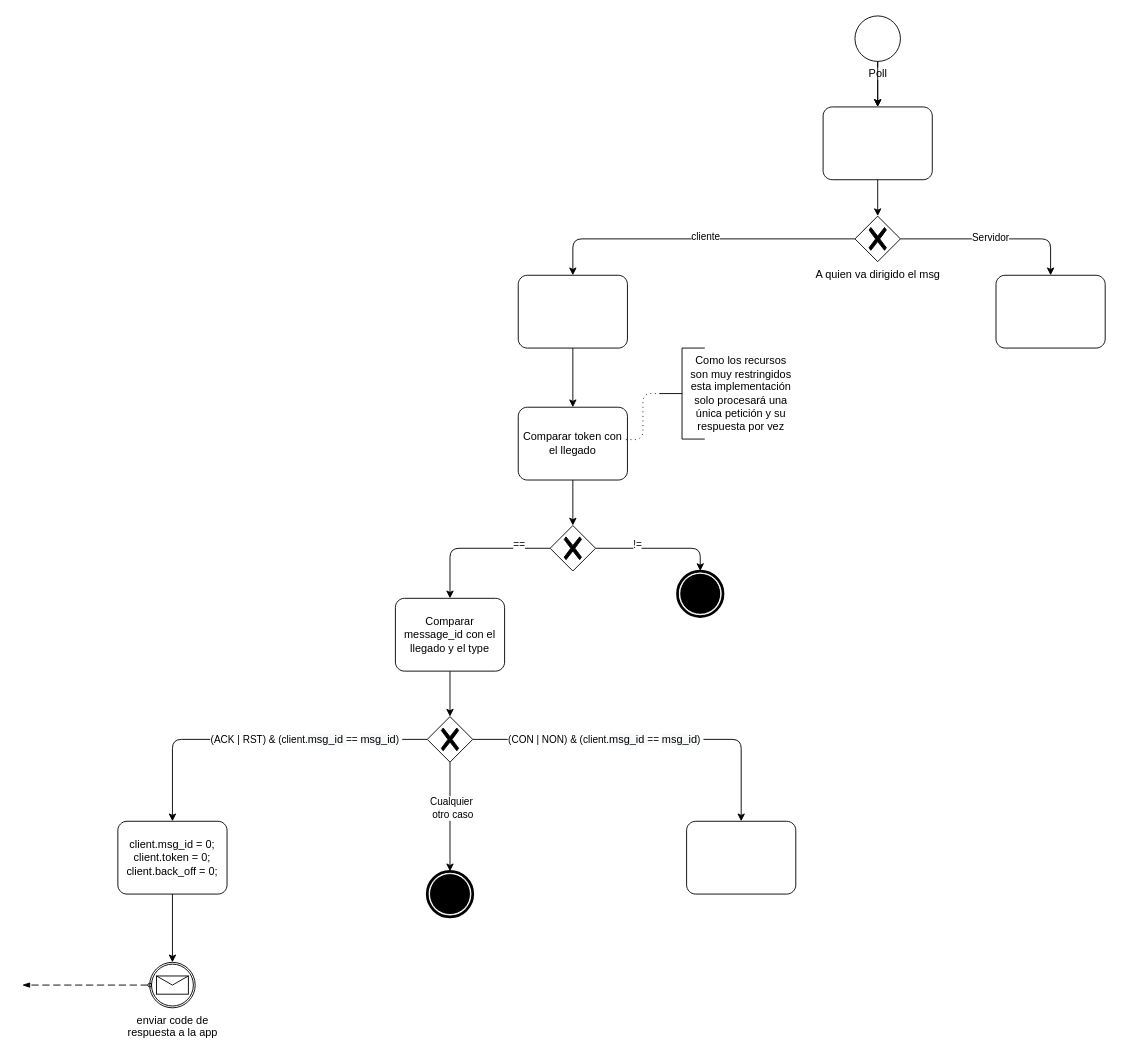
Image size: 1121x1057. Some labels were removed from this diagram. Each missing label, with the box of its shape:
Determinar a cual cliente le corresponde a partir del puerto: (517, 274, 627, 348)
Revisar el type: (686, 820, 796, 894)
Verificar el puerto local: (822, 106, 932, 180)
